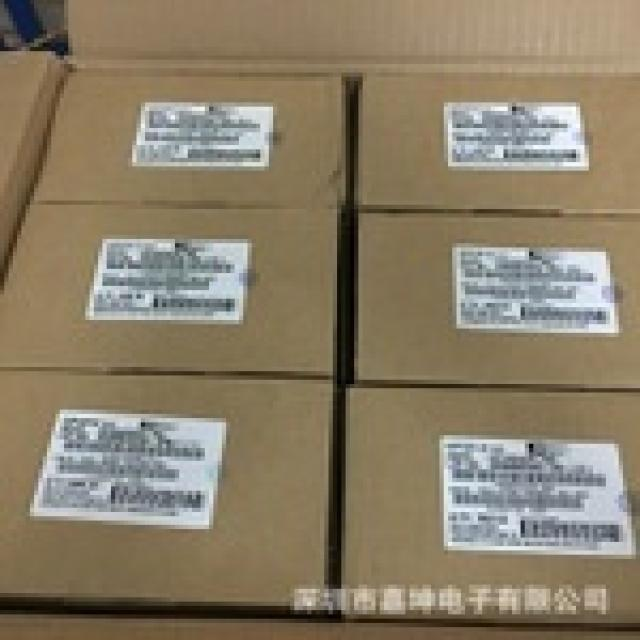box: (0, 367, 337, 619), (337, 384, 636, 623), (0, 201, 337, 380), (350, 209, 640, 388), (26, 73, 346, 209), (363, 68, 640, 222)
